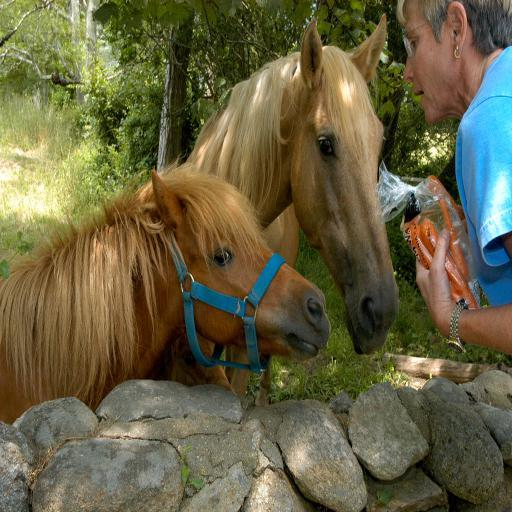Horse: (0, 150, 330, 427), (178, 12, 400, 409)
